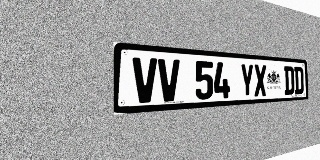4: (214, 62, 230, 99)
5: (195, 61, 213, 100)
D: (284, 66, 294, 95), (294, 67, 304, 94)
V: (132, 57, 157, 103), (158, 58, 180, 102)
X: (254, 64, 267, 97)
Y: (240, 63, 254, 97)
